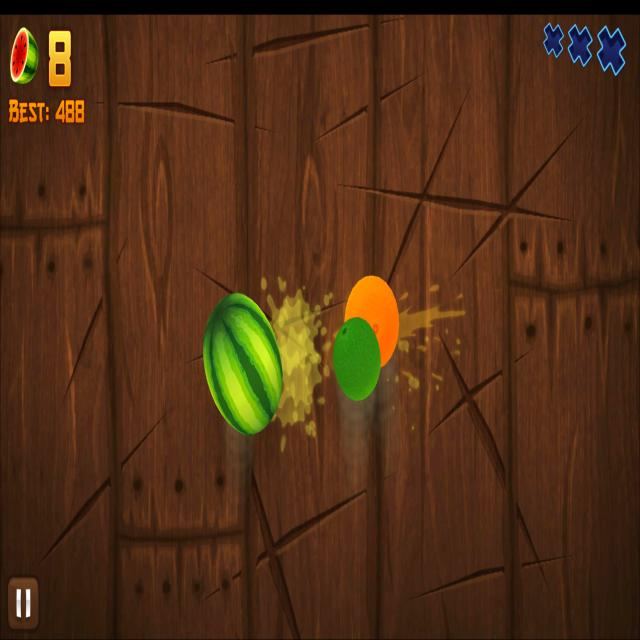fruit: (203, 292, 283, 434), (344, 277, 399, 368), (332, 316, 382, 401)
